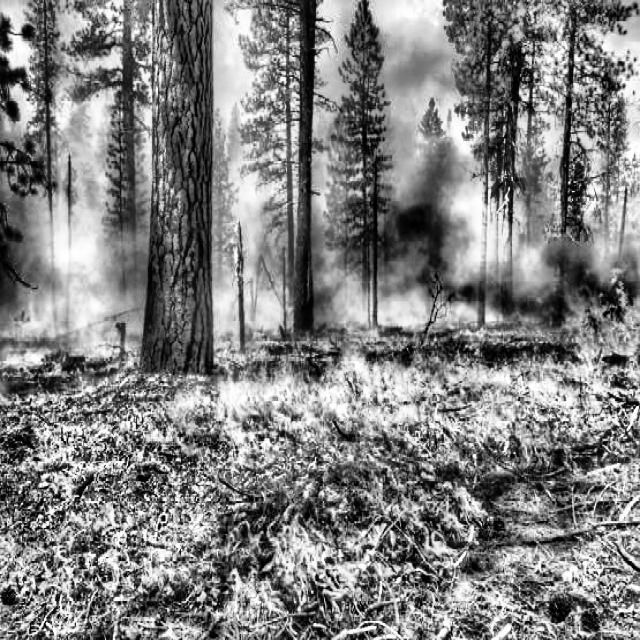fire: (4, 314, 630, 640)
